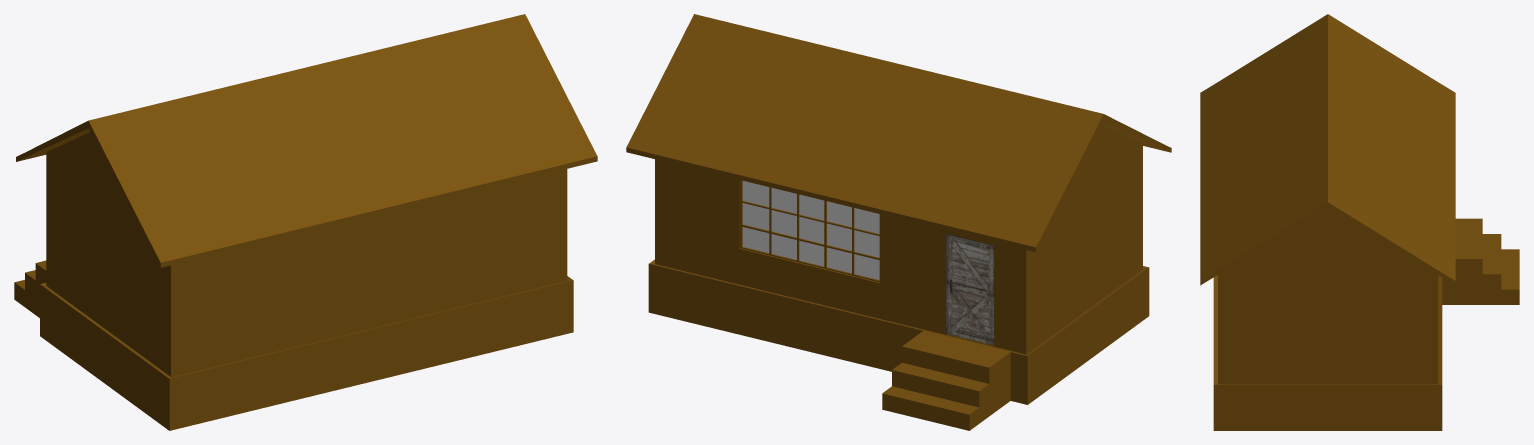
The model's file is cabin.fbx.
3 views of the same model, side by side, from view 1: azimuth 30°, elevation 25°; view 2: azimuth 150°, elevation 25°; view 3: azimuth 270°, elevation 25° (orthographic). The views are drawn at different scales.
Visible parts, largest first — view 1: House_LOD3; view 2: House_LOD3, Door_LOD3; view 3: House_LOD3.
Boxes of the visible parts, x1=… form: House_LOD3: x1=14, y1=14, x2=597, y2=430; House_LOD3: x1=626, y1=14, x2=1171, y2=430; Door_LOD3: x1=946, y1=233, x2=994, y2=345; House_LOD3: x1=1200, y1=14, x2=1519, y2=430.
Bounding box in the file's own units: 405 × 236 × 290.
